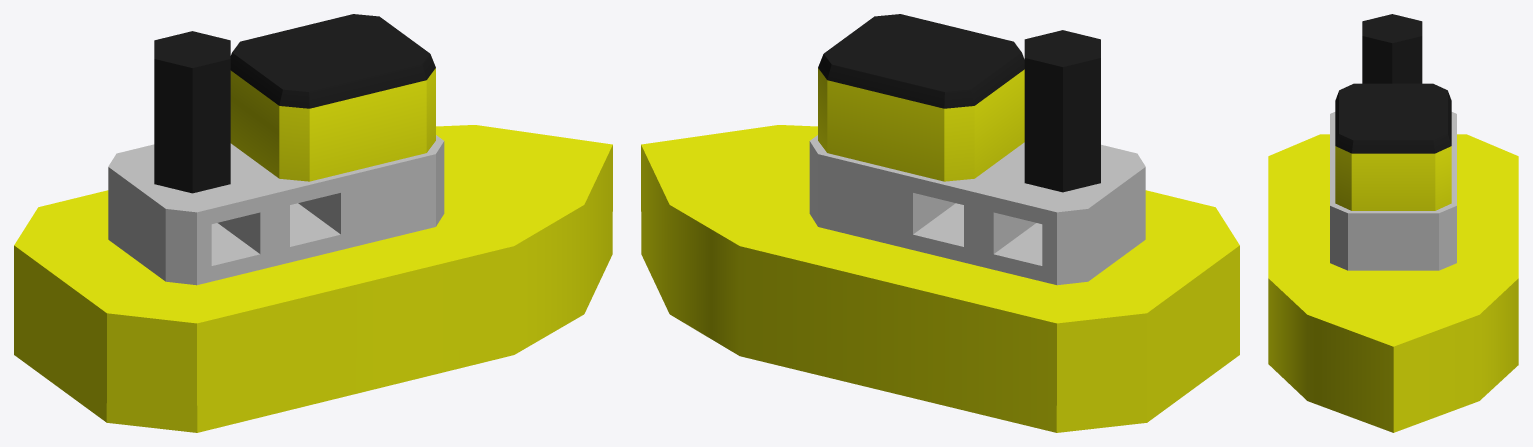
Rendered from Boat_G.FBX.
3 views of the same model, side by side, from view 1: azimuth 30°, elevation 25°; view 2: azimuth 150°, elevation 25°; view 3: azimuth 270°, elevation 25° (orthographic). The views are drawn at different scales.
Parts seen in each view (by area): view 1: Boat; view 2: Boat; view 3: Boat.
Part boxes in pixels (x1,y1,x2,y2): Boat: [14, 14, 612, 432]; Boat: [641, 14, 1239, 432]; Boat: [1268, 14, 1518, 432].
Bounding box in the file's own units: 119 × 63.46 × 59.25.
